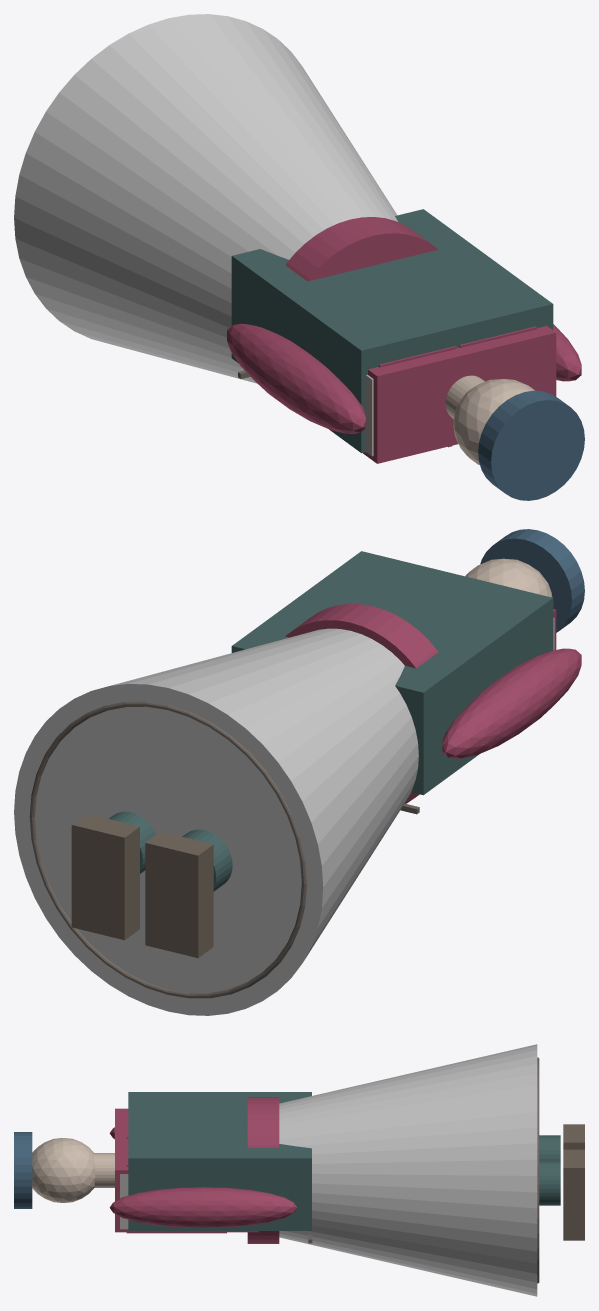
The model's file is MASTER_013_STAGE3_DETAIL.glb.
3 renders of one model, top to bottom at view 1: azimuth 30°, elevation 25°; view 2: azimuth 150°, elevation 25°; view 3: azimuth 270°, elevation 25°, orthographic. The views are drawn at different scales.
Parts seen in each view (by area): view 1: slot_lower_main__fund_i_gjatë, slot_outerwear__xhybe, slot_upper_inner__këmishë, slot_headwear__mbulesë_koke, slot_upper_inner_sleeve_L, slot_waist__brez, mannequin_head, slot_upper_inner_sleeve_R, mannequin_neck, mannequin_torso; view 2: slot_lower_main__fund_i_gjatë, slot_outerwear__xhybe, slot_footwear__opinga_L, slot_footwear__opinga_R, slot_upper_inner_sleeve_L, detail_skirt_hem, slot_headwear__mbulesë_koke, slot_waist__brez, mannequin_head, slot_legwear__çorape_L, slot_legwear__çorape_R; view 3: slot_lower_main__fund_i_gjatë, slot_outerwear__xhybe, slot_upper_inner_sleeve_R, mannequin_head, slot_waist__brez, slot_footwear__opinga_R, slot_headwear__mbulesë_koke, slot_upper_inner__këmishë, slot_legwear__çorape_R, mannequin_neck, detail_skirt_hem, slot_footwear__opinga_L (+1 smaller).
Part boxes in pixels (x1,y1,x2,y2): slot_lower_main__fund_i_gjatë: (14, 14, 397, 383); slot_outerwear__xhybe: (231, 209, 553, 453); slot_upper_inner__këmishë: (363, 326, 556, 463); slot_headwear__mbulesë_koke: (478, 390, 584, 500); slot_upper_inner_sleeve_L: (227, 323, 366, 433); slot_waist__brez: (285, 217, 437, 281); mannequin_head: (453, 379, 534, 464); slot_upper_inner_sleeve_R: (553, 324, 581, 381); mannequin_neck: (445, 375, 484, 418); mannequin_torso: (366, 375, 373, 456); slot_lower_main__fund_i_gjatë: (14, 628, 418, 1015); slot_outerwear__xhybe: (231, 551, 553, 795); slot_footwear__opinga_L: (145, 831, 213, 957); slot_footwear__opinga_R: (71, 813, 139, 940); slot_upper_inner_sleeve_L: (442, 648, 581, 758); detail_skirt_hem: (29, 701, 306, 998); slot_headwear__mbulesë_koke: (480, 529, 584, 632); slot_waist__brez: (285, 603, 438, 803); mannequin_head: (465, 558, 553, 603); slot_legwear__çorape_L: (182, 829, 232, 891); slot_legwear__çorape_R: (109, 811, 156, 873); slot_lower_main__fund_i_gjatë: (279, 1044, 537, 1296); slot_outerwear__xhybe: (128, 1092, 311, 1230); slot_upper_inner_sleeve_R: (109, 1187, 297, 1227); mannequin_head: (32, 1138, 95, 1202); slot_waist__brez: (247, 1097, 279, 1243); slot_footwear__opinga_R: (563, 1149, 584, 1240); slot_headwear__mbulesë_koke: (14, 1132, 32, 1208); slot_upper_inner__këmishë: (115, 1108, 258, 1232); slot_legwear__çorape_R: (539, 1161, 560, 1205); mannequin_neck: (94, 1153, 114, 1187); detail_skirt_hem: (537, 1057, 539, 1283); slot_footwear__opinga_L: (563, 1124, 584, 1149).
Size of the model in its own units: 0.7575 by 0.7575 by 1.71.
